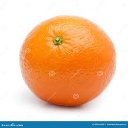orange: (17, 14, 119, 107)
